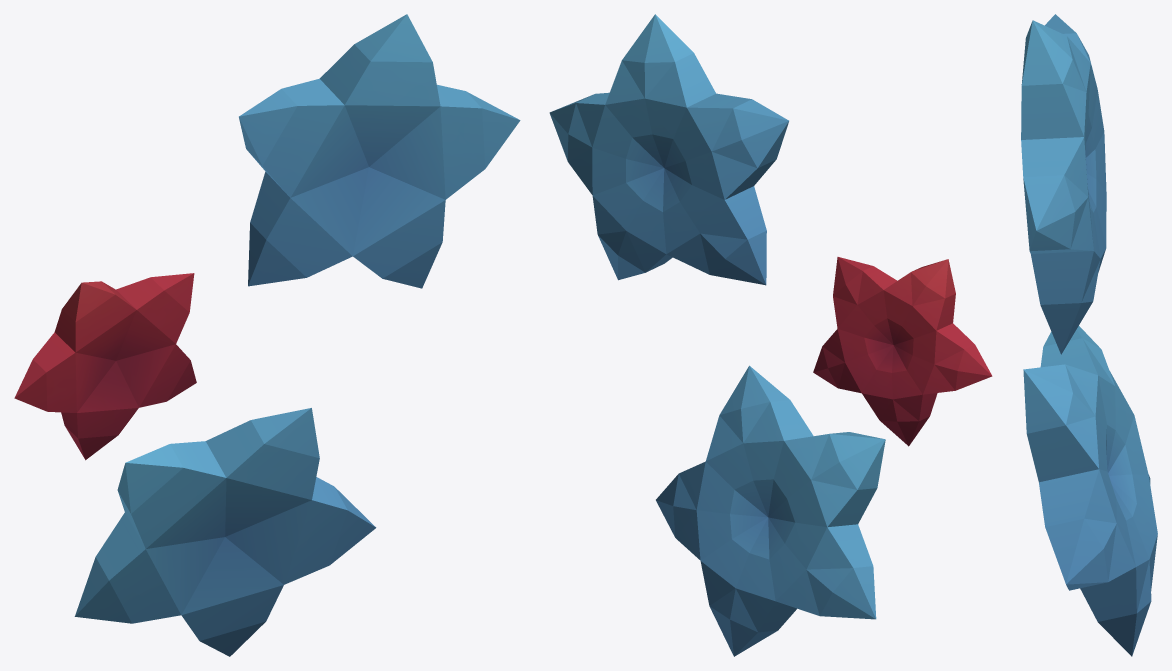
The model's file is Starfish_02.FBX.
3 renders of one model, left to right at view 1: azimuth 30°, elevation 25°; view 2: azimuth 150°, elevation 25°; view 3: azimuth 270°, elevation 25°, orthographic. The views are drawn at different scales.
Visible parts, largest first — view 1: Starfish_02; view 2: Starfish_02; view 3: Starfish_02.
Boxes of the visible parts, left/top/right/bottom form: Starfish_02: left=14, top=14, right=520, bottom=656; Starfish_02: left=549, top=14, right=992, bottom=656; Starfish_02: left=1021, top=14, right=1157, bottom=656.
Size of the model in its own units: 3.04 by 3.76 by 0.6591.
